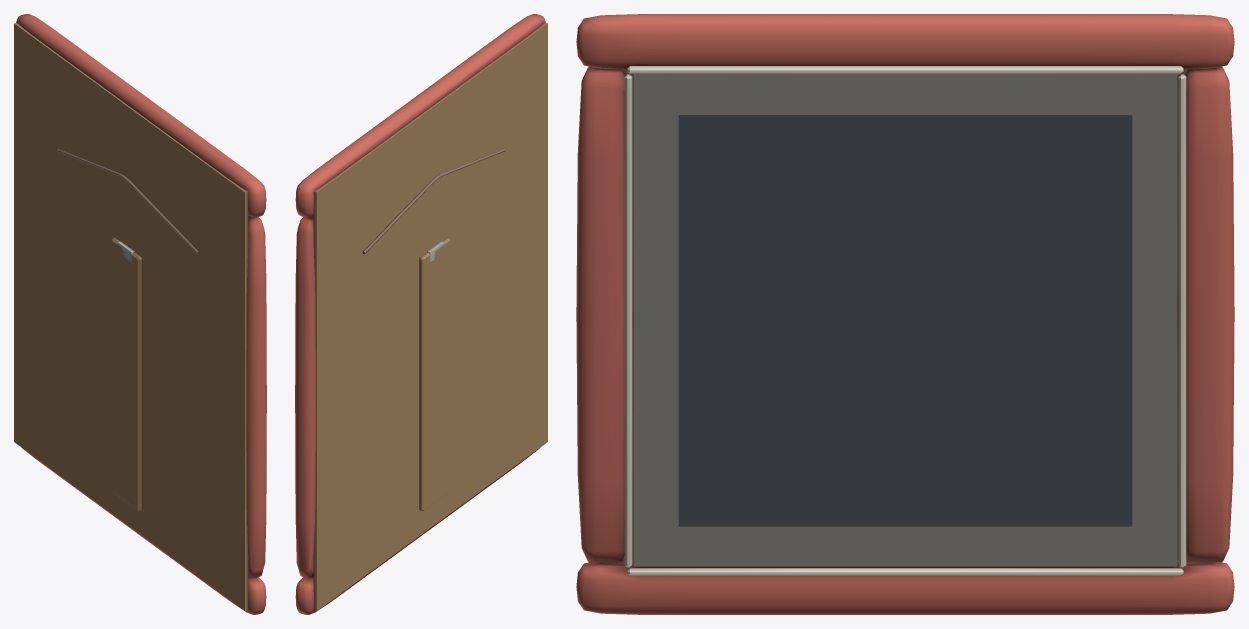
Rendered from nd_frame.glb.
3 renders of one model, left to right at view 1: azimuth 30°, elevation 25°; view 2: azimuth 150°, elevation 25°; view 3: azimuth 270°, elevation 25°, orthographic. The views are drawn at different scales.
Parts seen in each view (by area): view 1: PART; view 2: PART; view 3: PART, P_pic.
Boxes of the visible parts, x1,y1,x2,y2 form: PART: (14,14,266,614); PART: (295,14,547,614); PART: (576,14,1234,614); P_pic: (678,115,1132,526).
Bounding box in the file's own units: 0.0364 × 0.514 × 0.5133.
